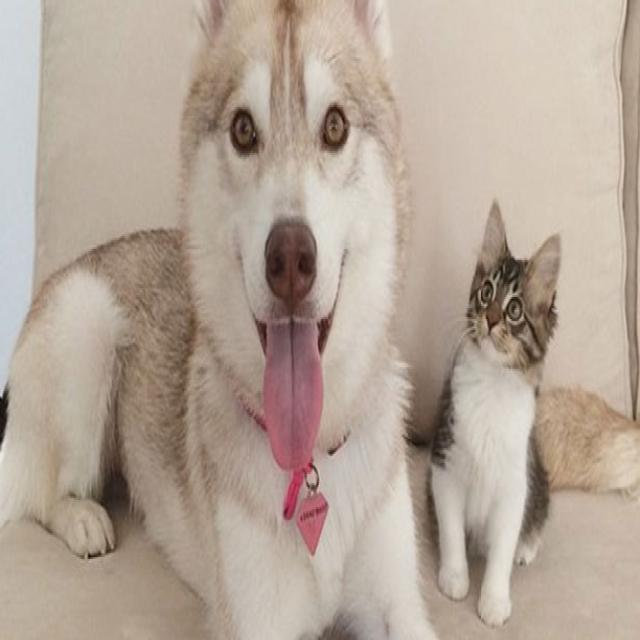cats: (435, 177, 566, 630)
dogs: (17, 1, 428, 640)
